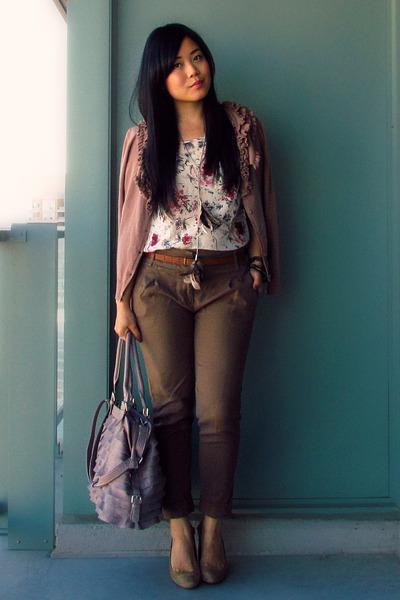bag: (87, 348, 169, 529)
pants: (133, 261, 263, 518)
shirt: (144, 98, 266, 251)
shoe: (170, 549, 214, 590)
